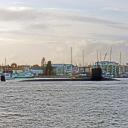submarine: (1, 69, 123, 81)
